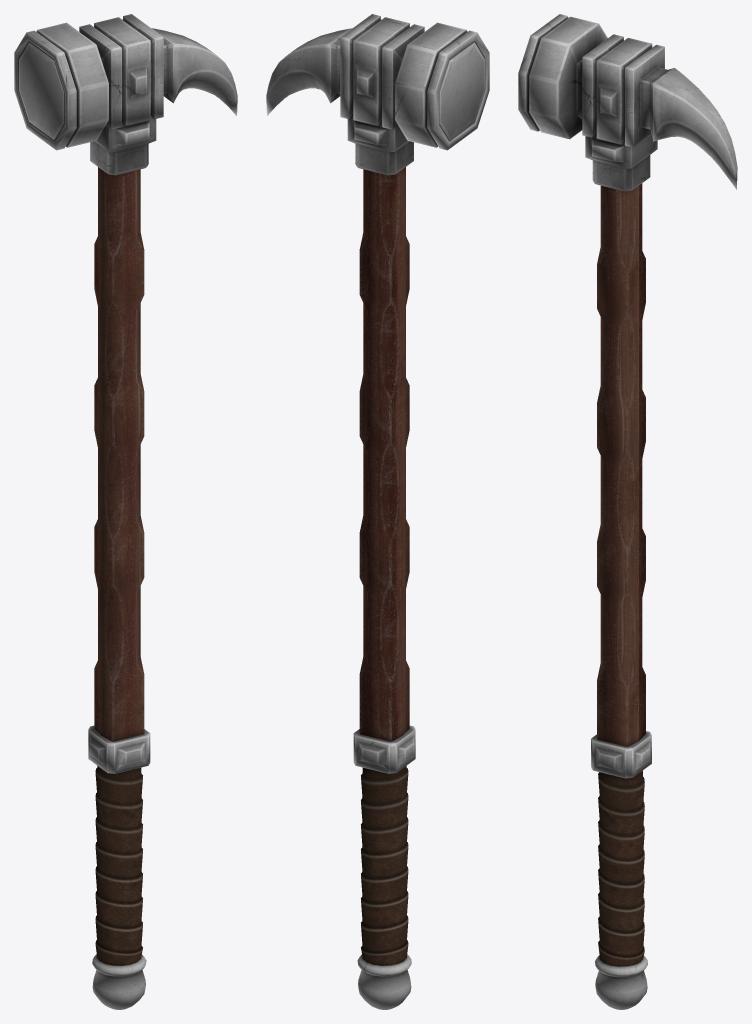
File: SM_Mace_05.fbx
3 renders of one model, left to right at view 1: azimuth 30°, elevation 25°; view 2: azimuth 150°, elevation 25°; view 3: azimuth 330°, elevation 25°, orthographic.
Parts seen in each view (by area): view 1: SM_Mace_05_LOD0; view 2: SM_Mace_05_LOD0; view 3: SM_Mace_05_LOD0.
Part boxes in pixels (box(x1,y1,x2,y2)): SM_Mace_05_LOD0: box(14, 14, 237, 1009); SM_Mace_05_LOD0: box(266, 14, 489, 1009); SM_Mace_05_LOD0: box(518, 14, 737, 1009).
Size of the model in its own units: 17.45 by 8.42 by 83.99.
Materials: 1 (1 with a texture image).
